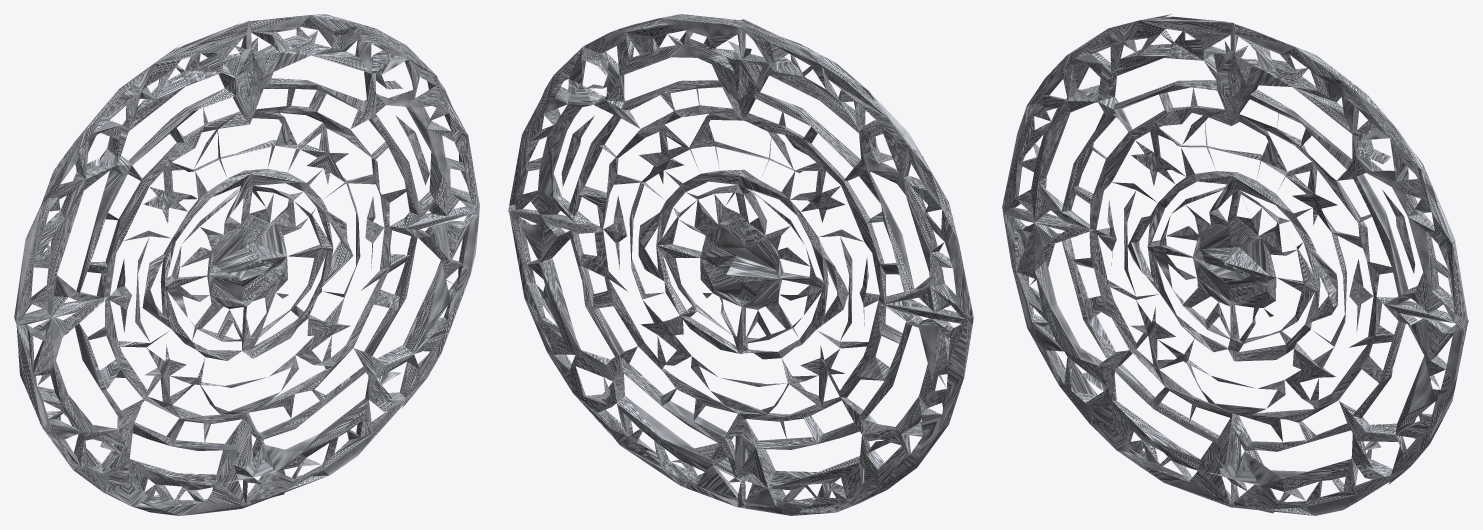
The model's file is astro_rings.glb.
The picture shows the model from 3 angles, left to right: view 1: azimuth 30°, elevation 25°; view 2: azimuth 150°, elevation 25°; view 3: azimuth 330°, elevation 25°; orthographic projection.
Parts seen in each view (by area): view 1: astro_rings; view 2: astro_rings; view 3: astro_rings.
Part boxes in pixels (left/top/right/bottom): astro_rings: left=14, top=14, right=479, bottom=515; astro_rings: left=508, top=14, right=973, bottom=515; astro_rings: left=1002, top=14, right=1468, bottom=515.
Bounding box in the file's own units: 0.595 × 0.5968 × 0.0518.
Materials: 1 (1 with a texture image).
